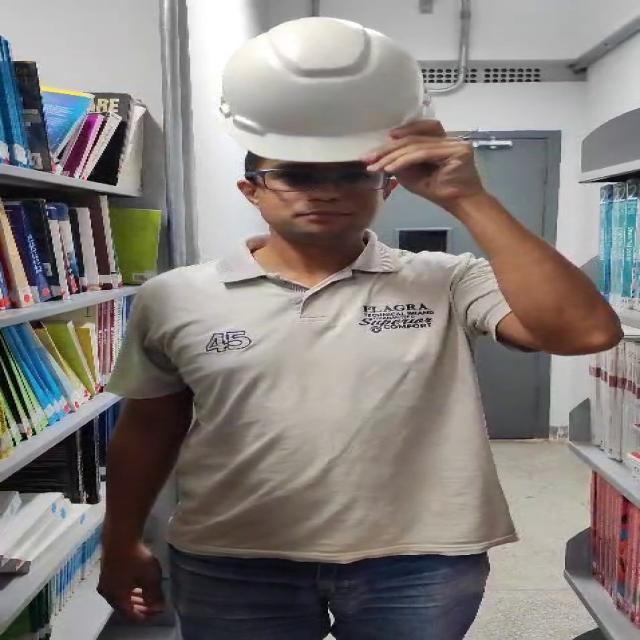capacete: (188, 17, 462, 186)
